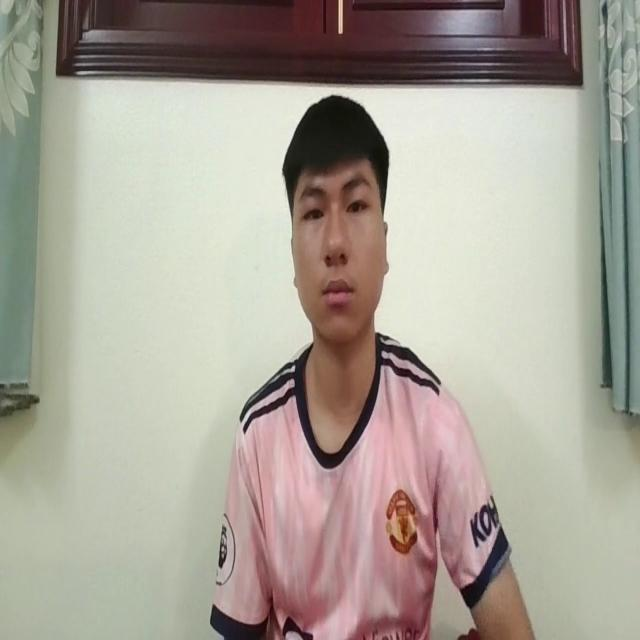student: (214, 88, 534, 640)
